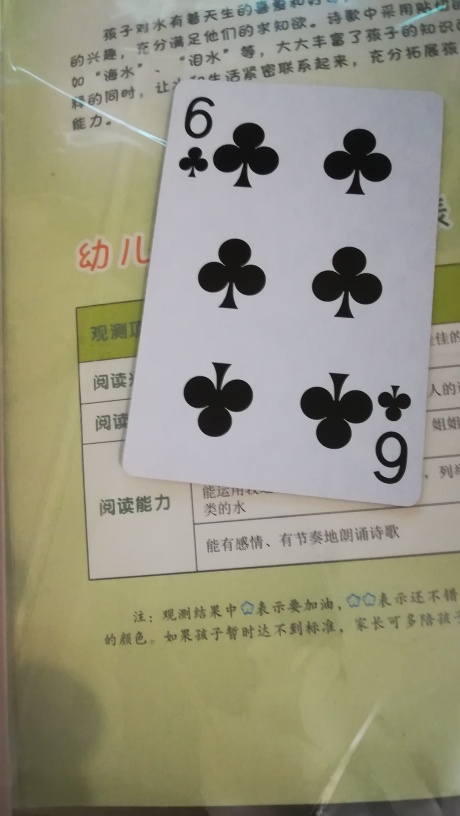mh 6: (120, 76, 443, 518)
